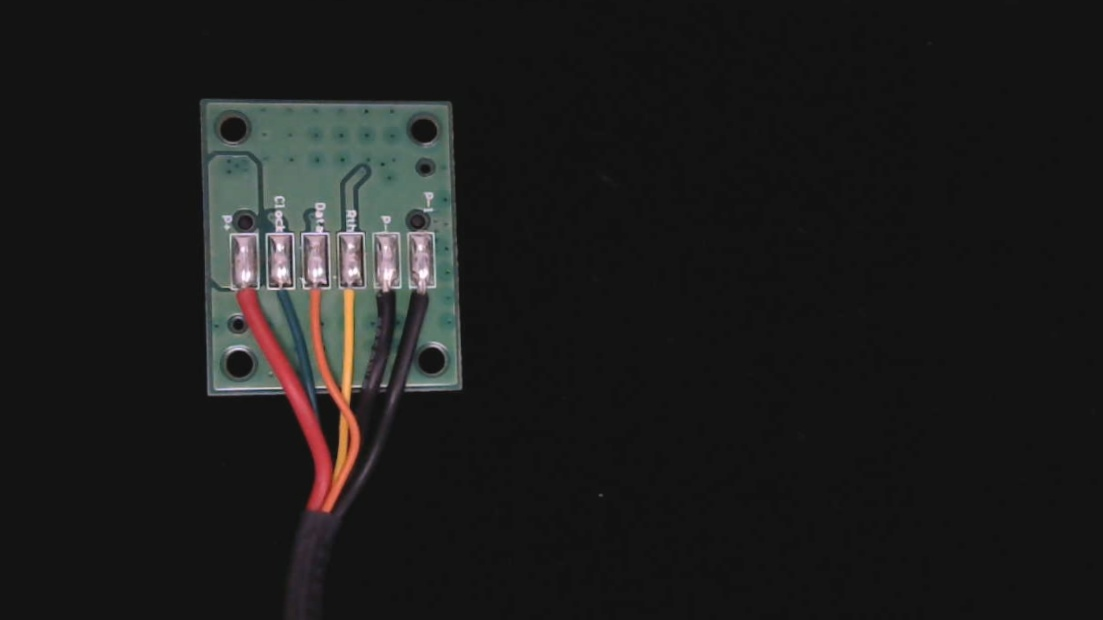Black: (371, 272, 403, 336)
Black1: (409, 270, 440, 329)
Green: (266, 268, 297, 322)
Orange: (302, 269, 332, 333)
Red: (231, 271, 263, 333)
Yellow: (339, 271, 370, 336)
